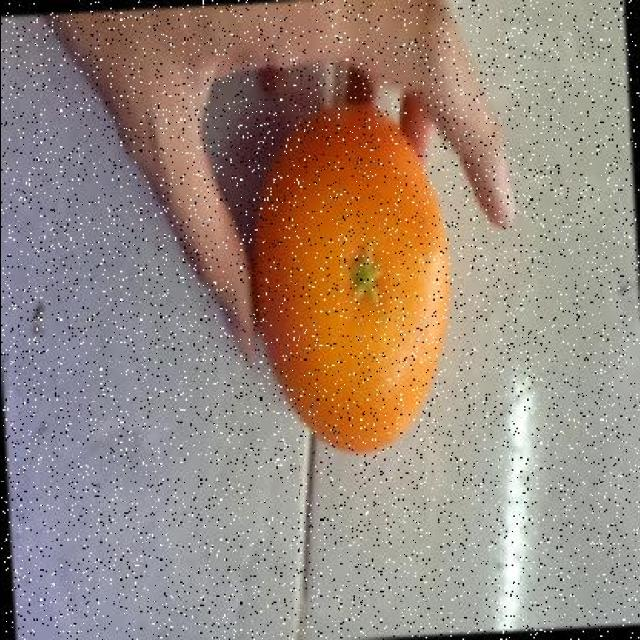Orange: (251, 103, 454, 455)
